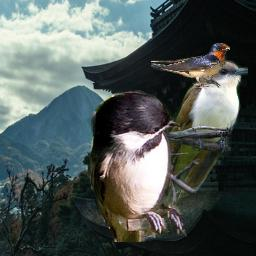Cuckoo: (135, 58, 248, 241)
Swallow: (87, 88, 190, 242), (151, 43, 230, 88)
